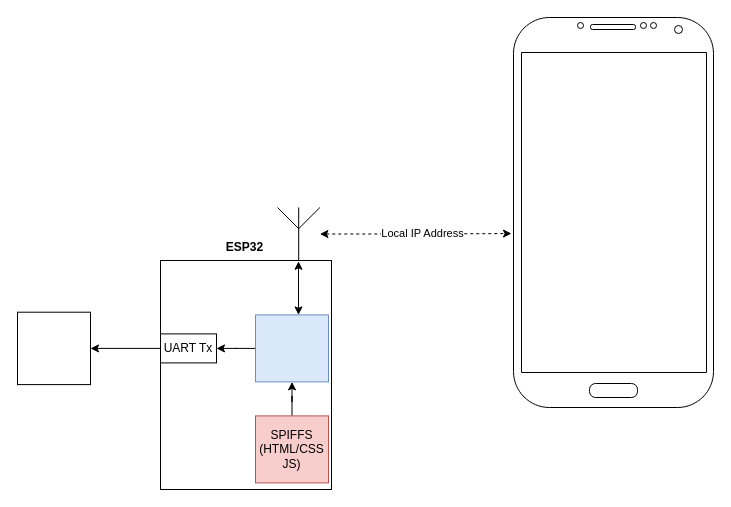
Some shapes in this 731 by 507 pixel diagram are drawn without their labels. The centre of each missing label's shape, as x and y in pixels:
"Async Webserver (WebSocket)" belongs at pixel 291 348.
"STM32" belongs at pixel 53 348.
